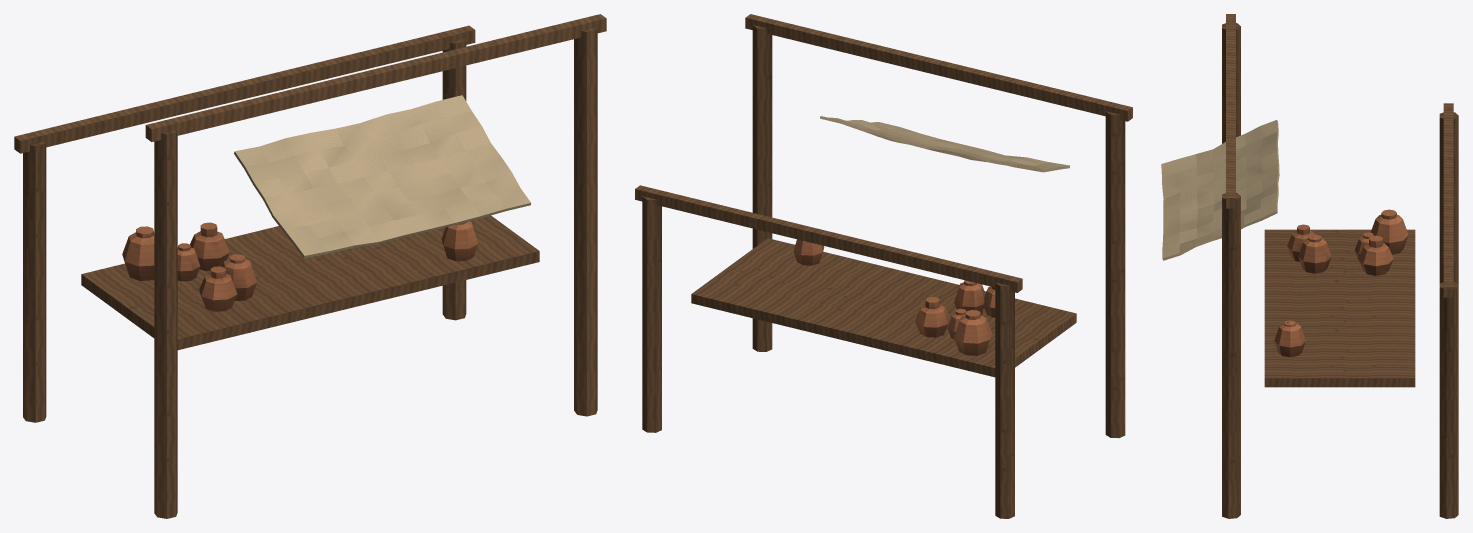
File: leanto_pottery.glb
3 renders of one model, left to right at view 1: azimuth 30°, elevation 25°; view 2: azimuth 150°, elevation 25°; view 3: azimuth 270°, elevation 25°, orthographic. The views are drawn at different scales.
Visible parts, largest first — view 1: leanto_pottery; view 2: leanto_pottery; view 3: leanto_pottery.
Part boxes in pixels (box(x1,y1,x2,y2)): leanto_pottery: box(14, 14, 606, 518); leanto_pottery: box(635, 14, 1132, 518); leanto_pottery: box(1161, 14, 1458, 518).
Bounding box in the file's own units: 2.6 × 2.14 × 1.78.
3 materials, 3 textured.
